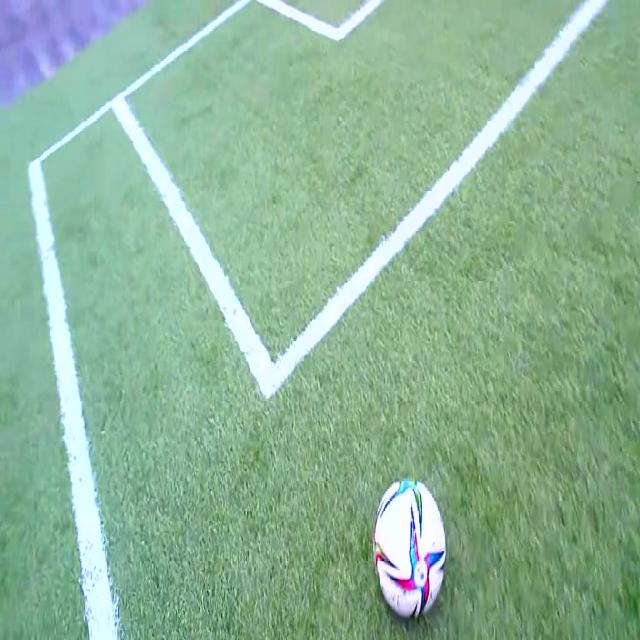ball: (374, 479, 446, 620)
